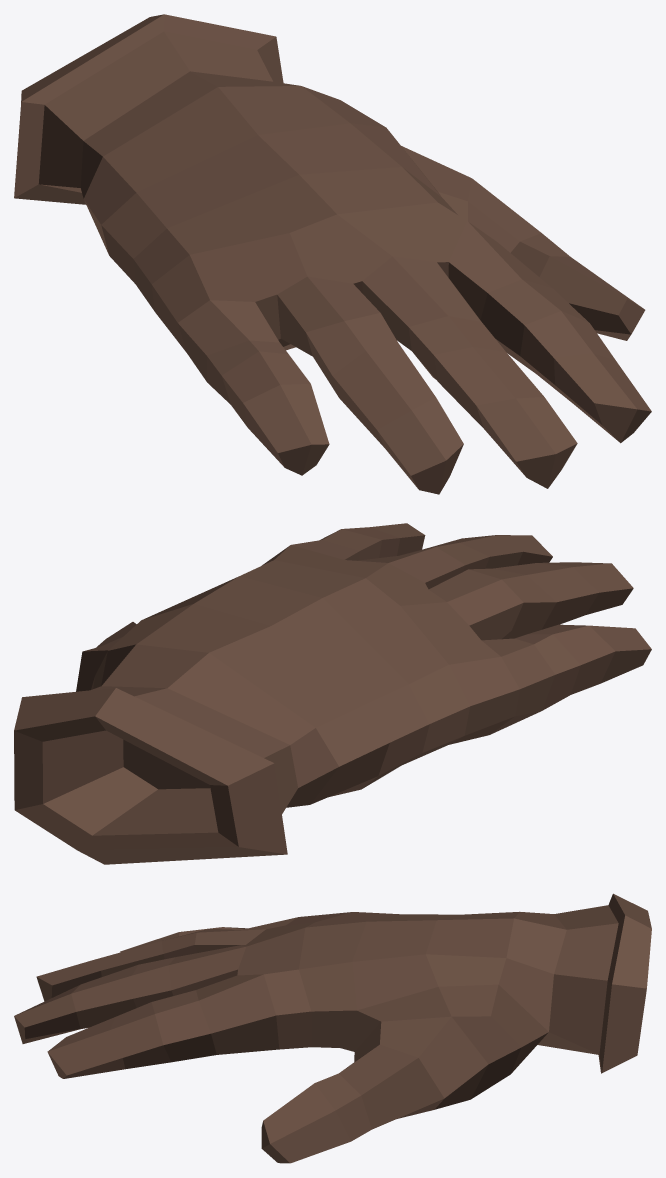
File: glove.glb
3 views of the same model, one above another, from view 1: azimuth 30°, elevation 25°; view 2: azimuth 150°, elevation 25°; view 3: azimuth 270°, elevation 25° (orthographic). The views are drawn at different scales.
Visible parts, largest first — view 1: Glove; view 2: Glove; view 3: Glove.
Part boxes in pixels (left/top/right/bottom): Glove: left=14, top=14, right=651, bottom=494; Glove: left=14, top=523, right=651, bottom=864; Glove: left=14, top=893, right=651, bottom=1163.
Size of the model in its own units: 0.5983 by 0.2681 by 0.9558.
